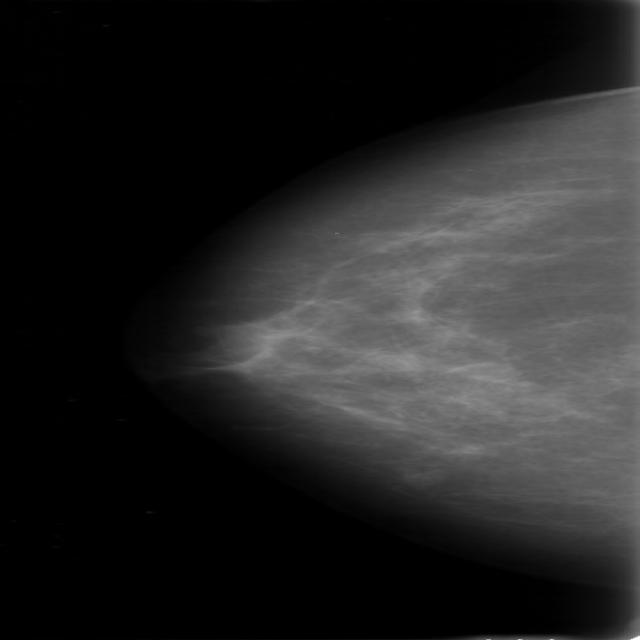tumour: (399, 468, 443, 488)
